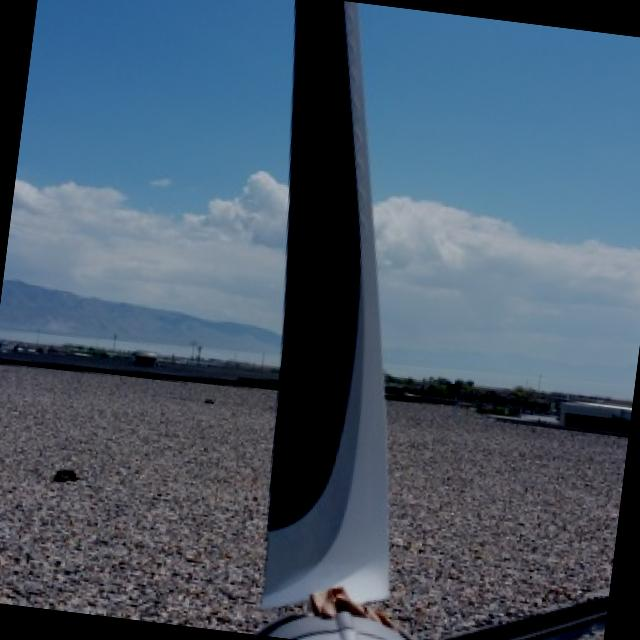healthy: (262, 0, 416, 640)
